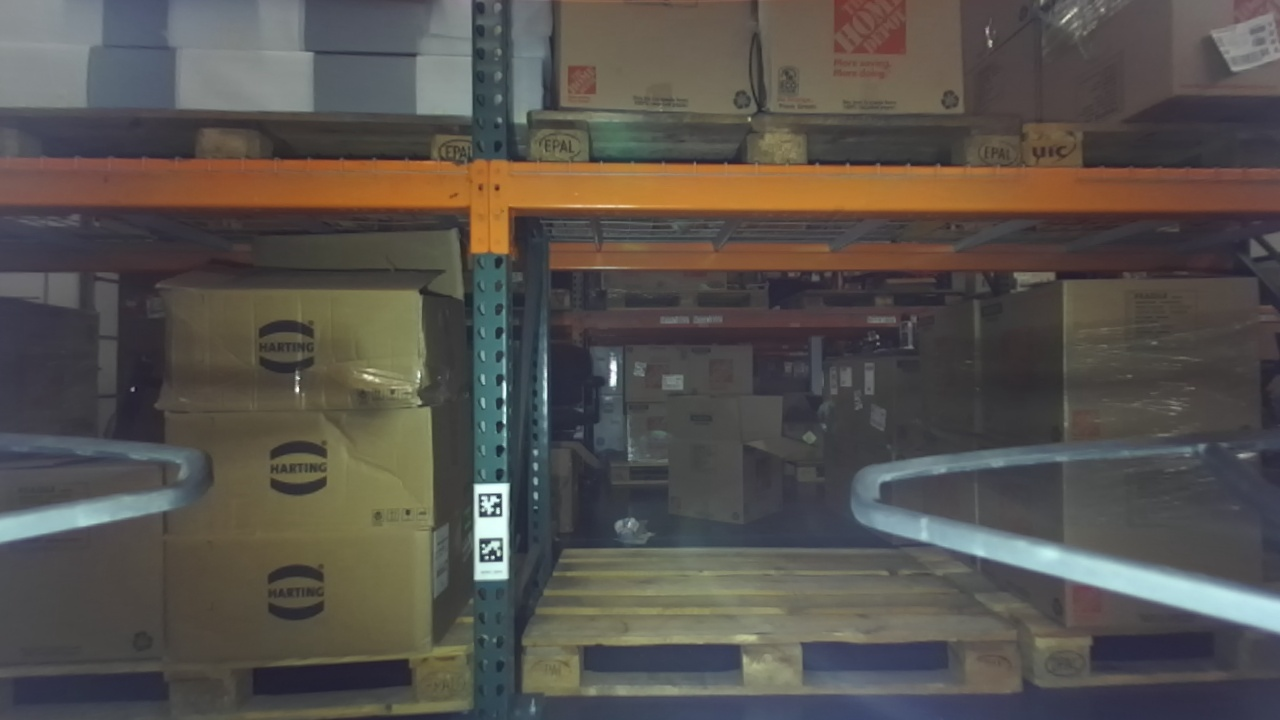box: (134, 218, 473, 419), (1010, 440, 1271, 657), (139, 515, 455, 683), (1012, 260, 1271, 463), (137, 391, 470, 543), (727, 1, 987, 125)
